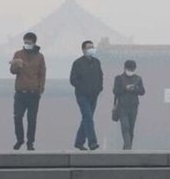person: (9, 31, 48, 151), (70, 39, 104, 150), (111, 59, 148, 149)
